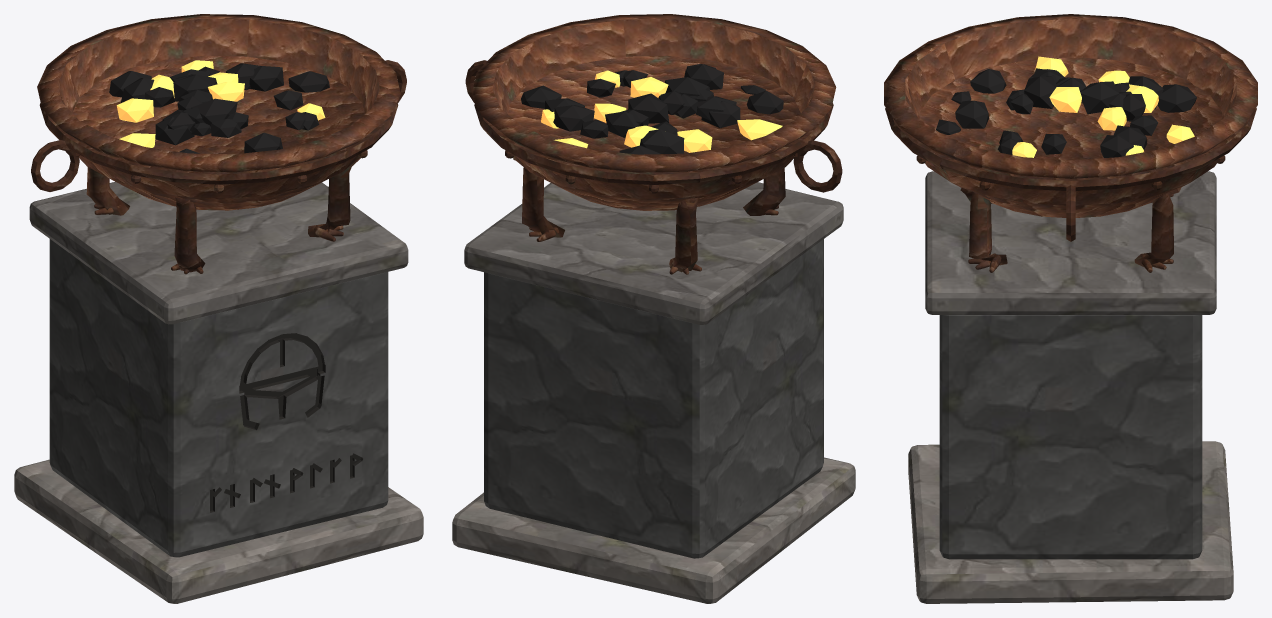
File: th_brazier_grand.glb
3 views of the same model, side by side, from view 1: azimuth 30°, elevation 25°; view 2: azimuth 150°, elevation 25°; view 3: azimuth 270°, elevation 25° (orthographic). The views are drawn at different scales.
Visible parts, largest first — view 1: model; view 2: model; view 3: model.
Part boxes in pixels (x1,y1,x2,y2): model: (14, 14, 423, 603); model: (452, 14, 855, 603); model: (884, 14, 1257, 603).
Size of the model in its own units: 0.942 by 1.05 by 0.782.
8 materials, 5 textured.
